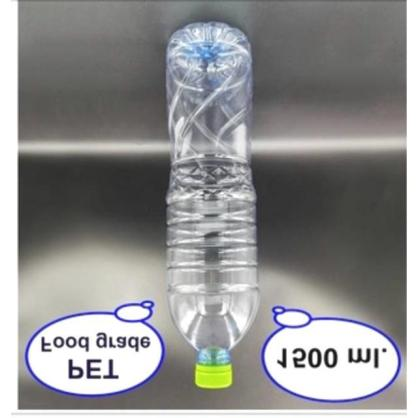bottle: (165, 21, 261, 387)
cap: (194, 361, 234, 386)
